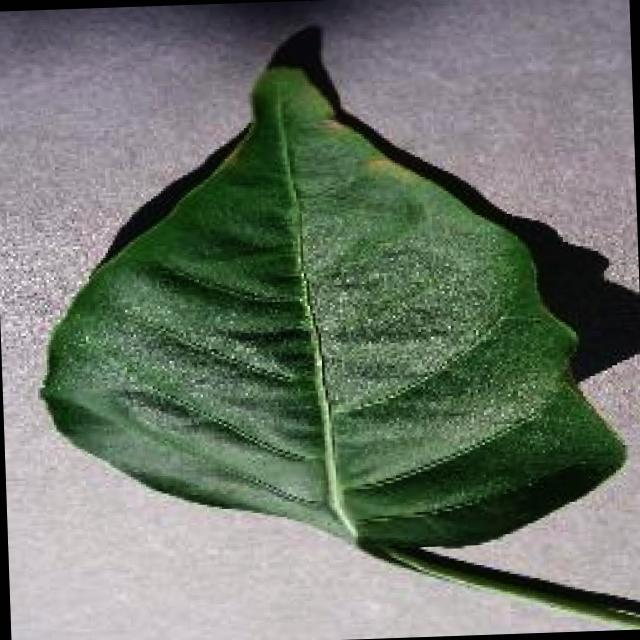Leaf: (56, 36, 618, 557)
